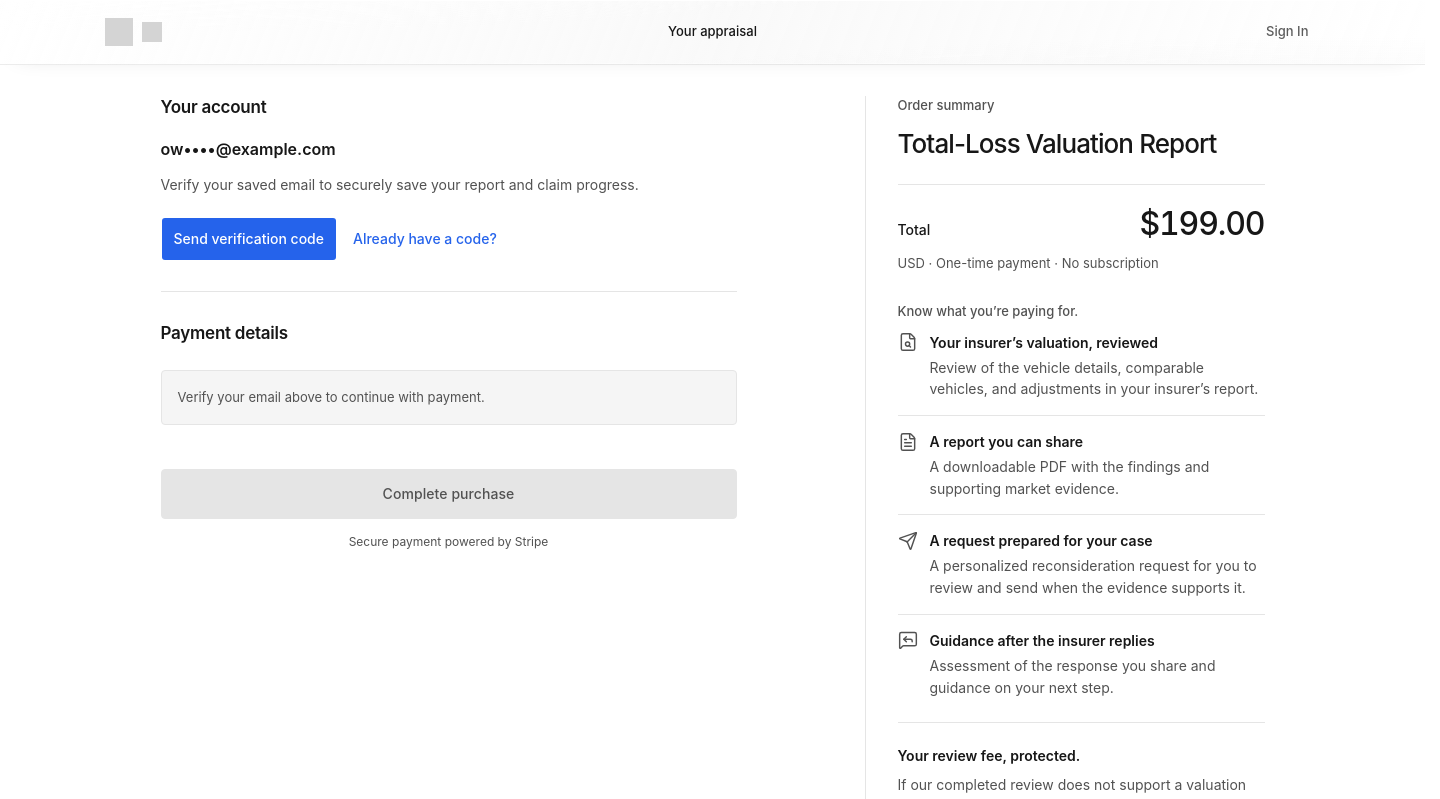
local purchase email verification › stays on checkout and renders verified after the completed transfer publishes its session
Click the button "Send verification code" at {"x": 249, "y": 239}, box [160,217,337,261]
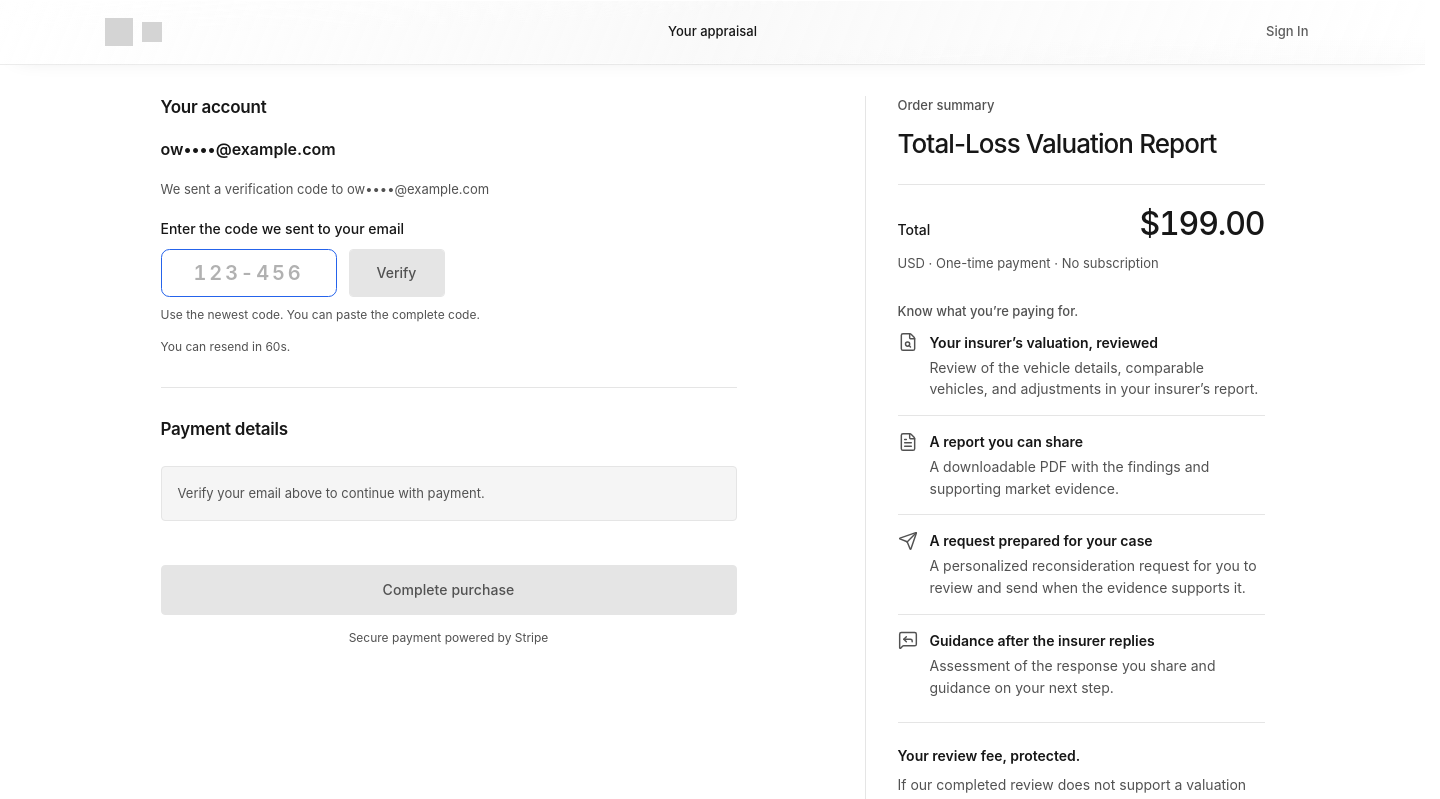
Type "123456" into the field labelled "Enter the code we sent to your email" at {"x": 248, "y": 273}, box [160,249,336,297]
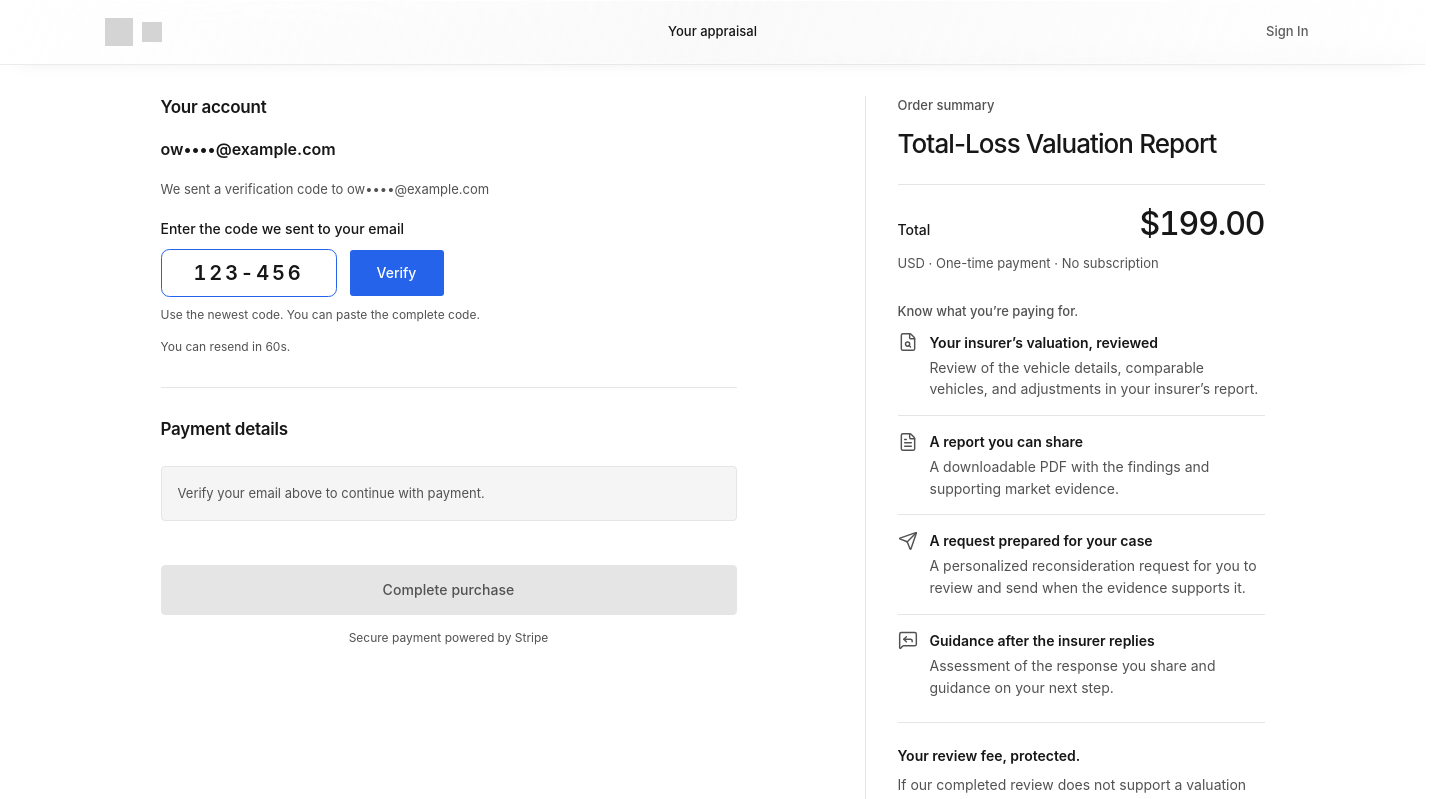
Click the button "Verify" at {"x": 396, "y": 273}, box [348,249,444,297]
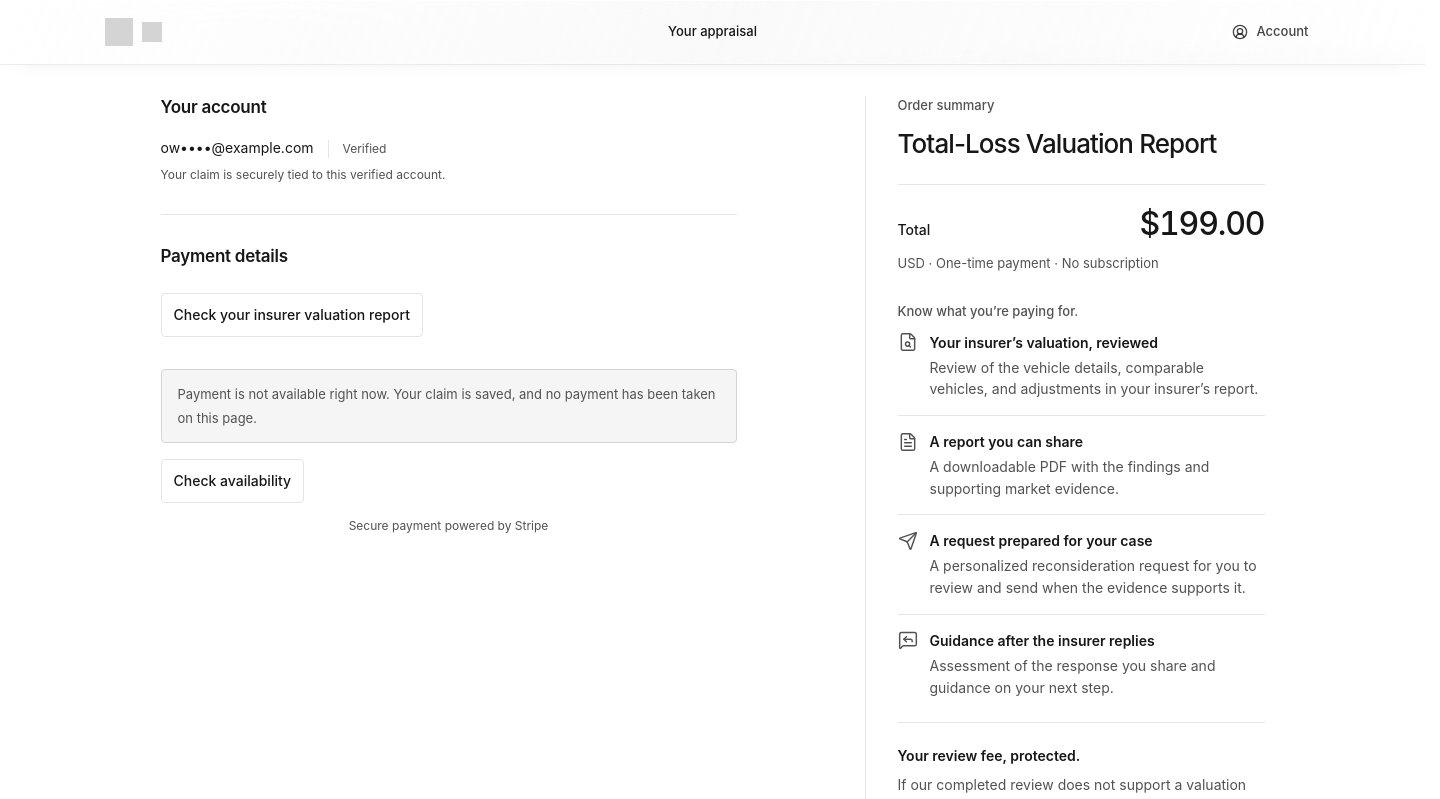
Now the text "Verified" is shown, box [328,140,386,158]
Now the label "Enter the code we sent to your email" is gone
Now the text "Verify your email above to continue with payment." is gone
